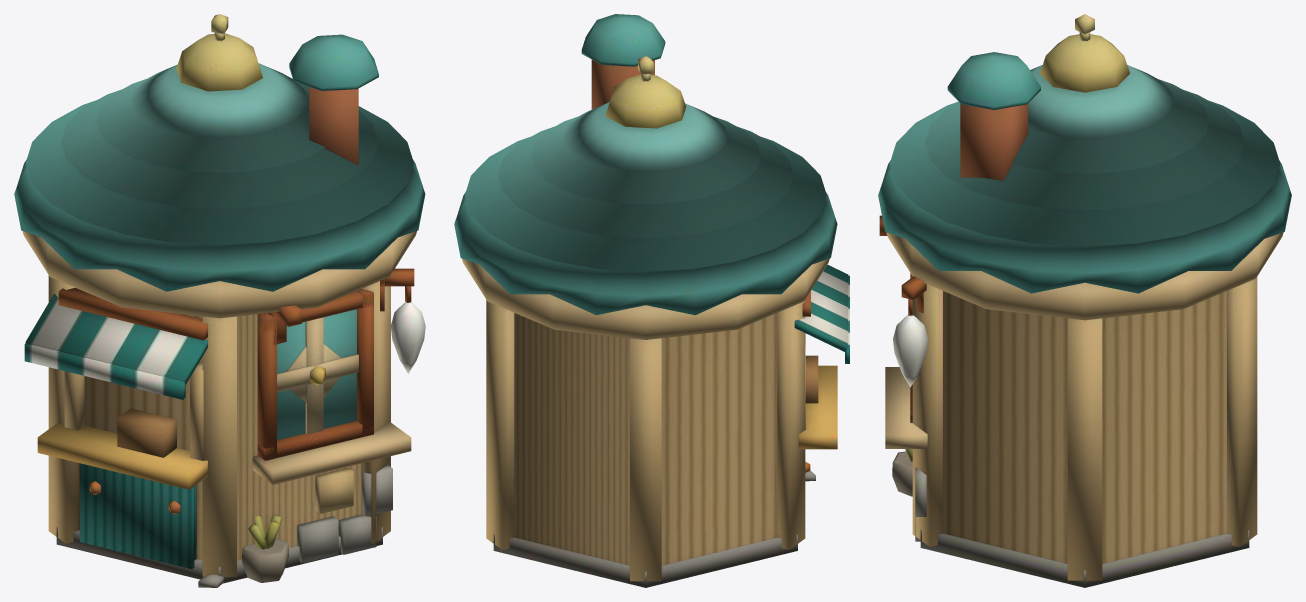
Rendered from kiosk_2_low.glb.
3 views of the same model, side by side, from view 1: azimuth 30°, elevation 25°; view 2: azimuth 150°, elevation 25°; view 3: azimuth 270°, elevation 25° (orthographic). The views are drawn at different scales.
Visible parts, largest first — view 1: kiosk_2; view 2: kiosk_2; view 3: kiosk_2.
Boxes of the visible parts, left/top/right/bottom form: kiosk_2: left=14, top=14, right=425, bottom=587; kiosk_2: left=454, top=14, right=849, bottom=587; kiosk_2: left=878, top=14, right=1291, bottom=587.
Size of the model in its own units: 1.17 by 1.43 by 1.08.
1 material, 1 textured.
